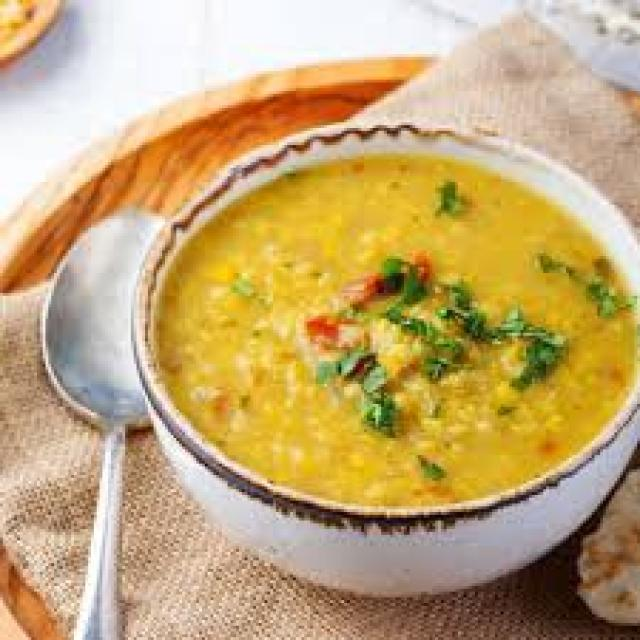dal: (149, 211, 609, 499)
